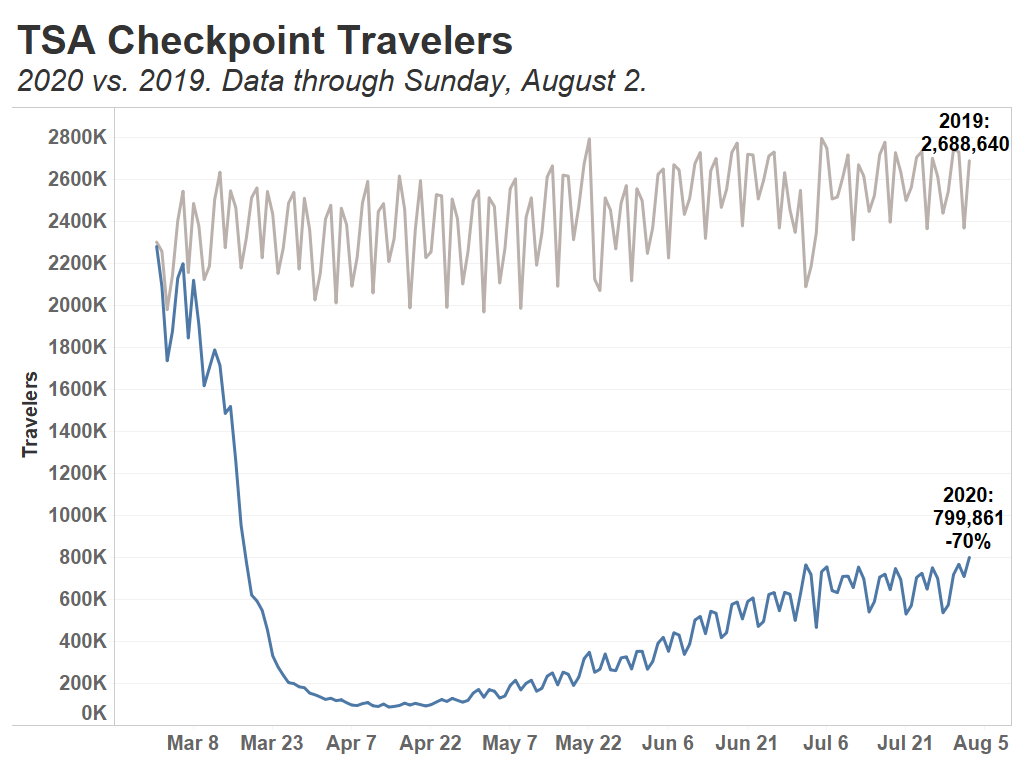

The dashboard page shown, as its layout file describes it:
{"tool":"tableau","page":{"name":"TSA Travelers","canvas":[1024,768],"ordinal":3},"visuals":[{"type":"worksheet","box":[0,0,1024,768]},{"type":"worksheet","title":"Travelers","mark":"Automatic","rows":["2019","2020"],"cols":["Date"],"box":[8,8,1008,752]}]}

Visuals, with their boxes in screenshot pixels (x1, y1, x2, y2), scaled from the page's 1024x768 canvas onto the 1024x768 screenshot:
worksheet: bbox=[0, 0, 1023, 767]
"Travelers" worksheet: bbox=[8, 8, 1016, 760]
